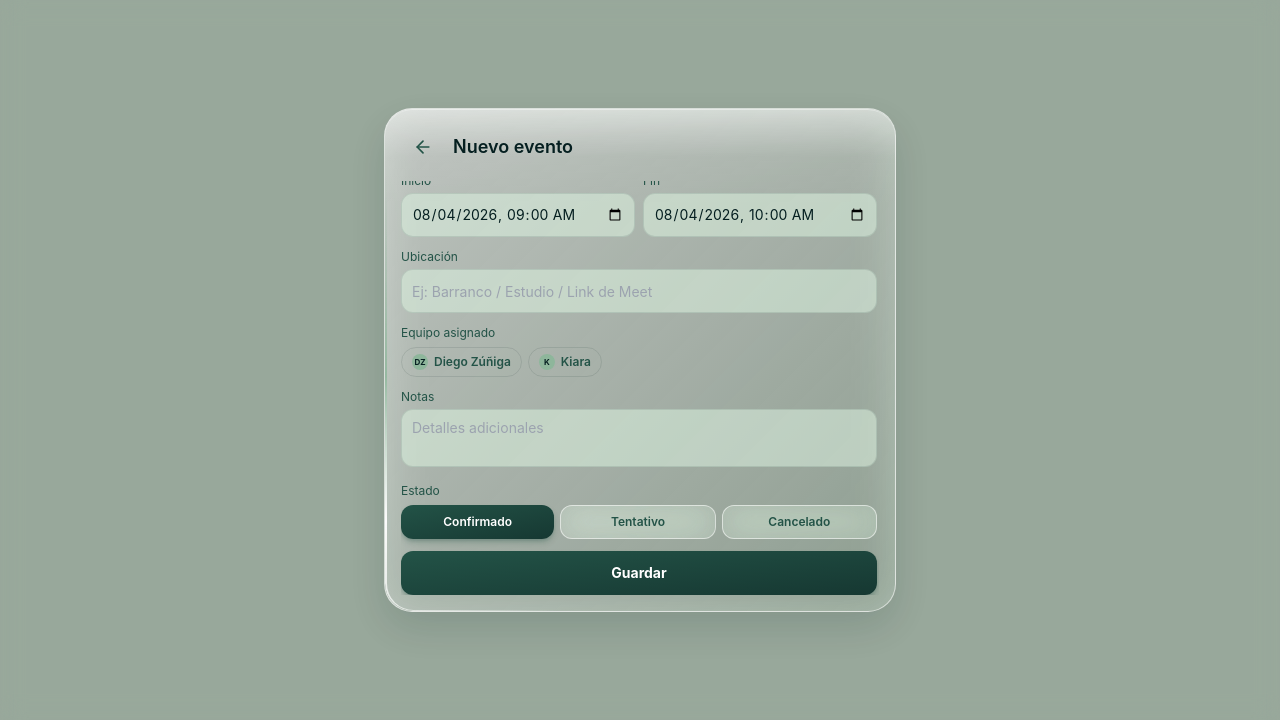
Scenario: CalendarEventEditor › blocks saving and shows an error when the title is blank
(page scrolled)
Step 1. Click the button "Guardar" → (639, 573), box [401, 551, 877, 595]
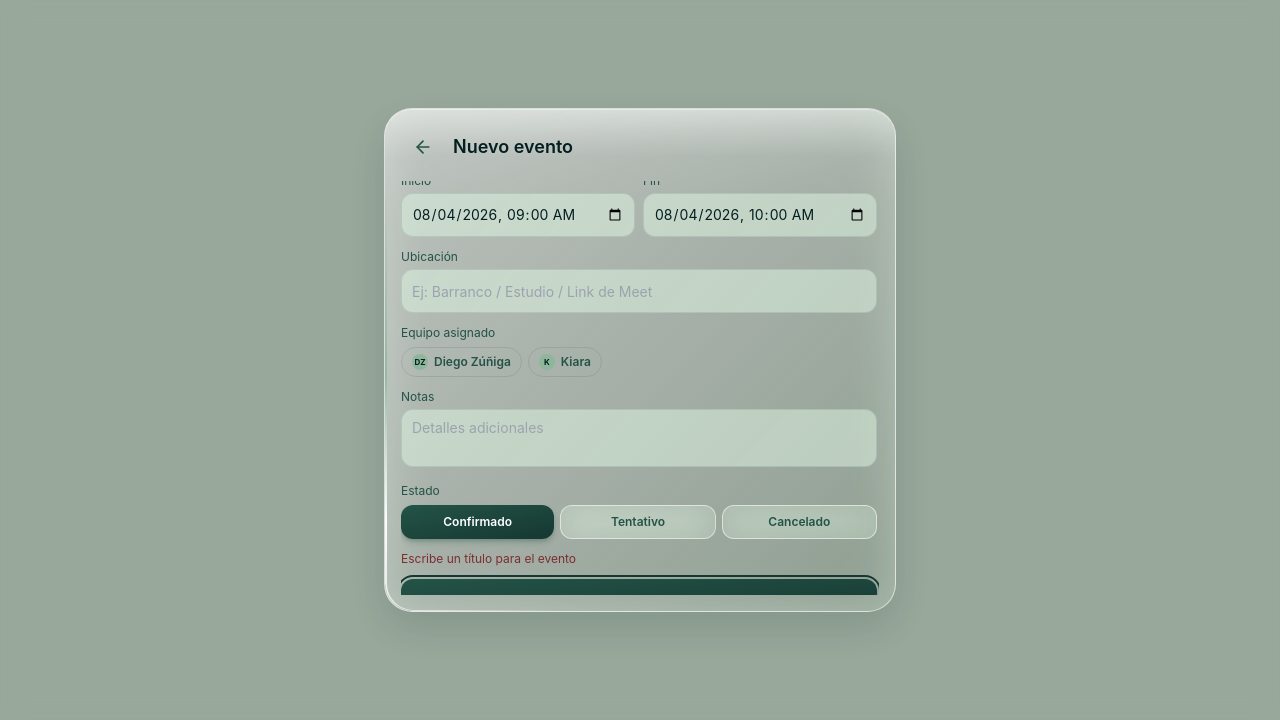
Check: the text "Escribe un título para el evento" is shown, box [401, 551, 576, 566]
